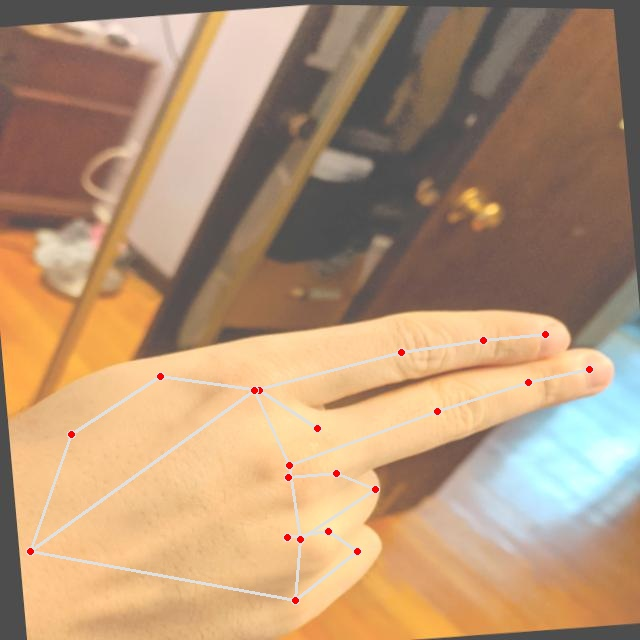H: (0, 278, 639, 640)
